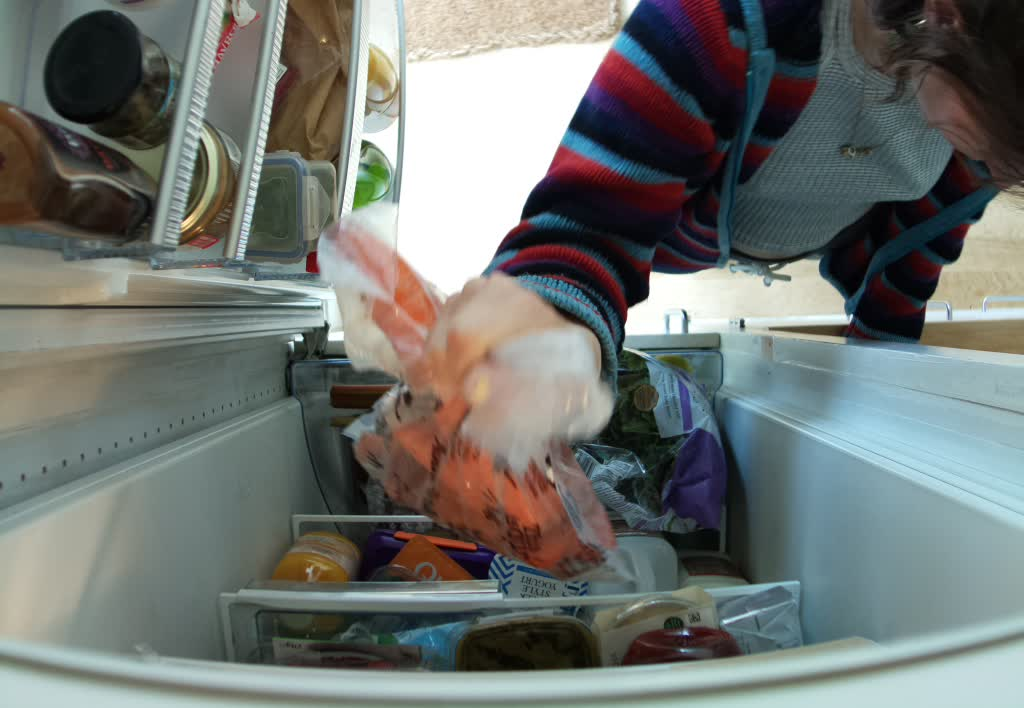carrot: (333, 226, 624, 573)
